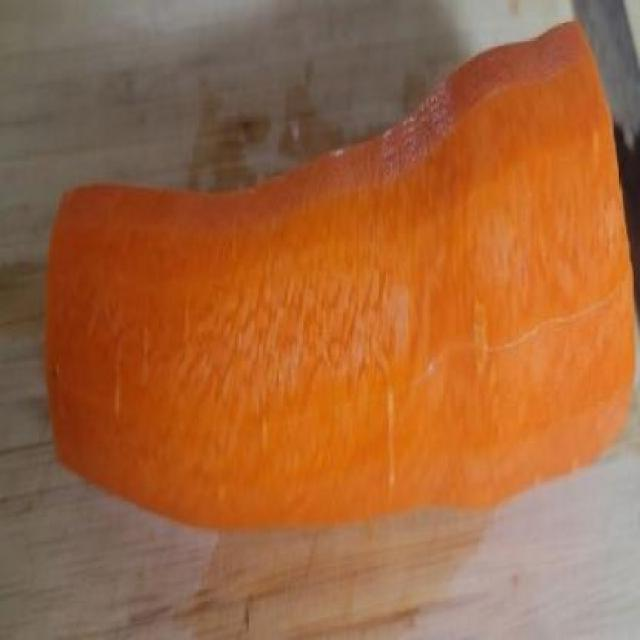carrot: (41, 16, 635, 548)
